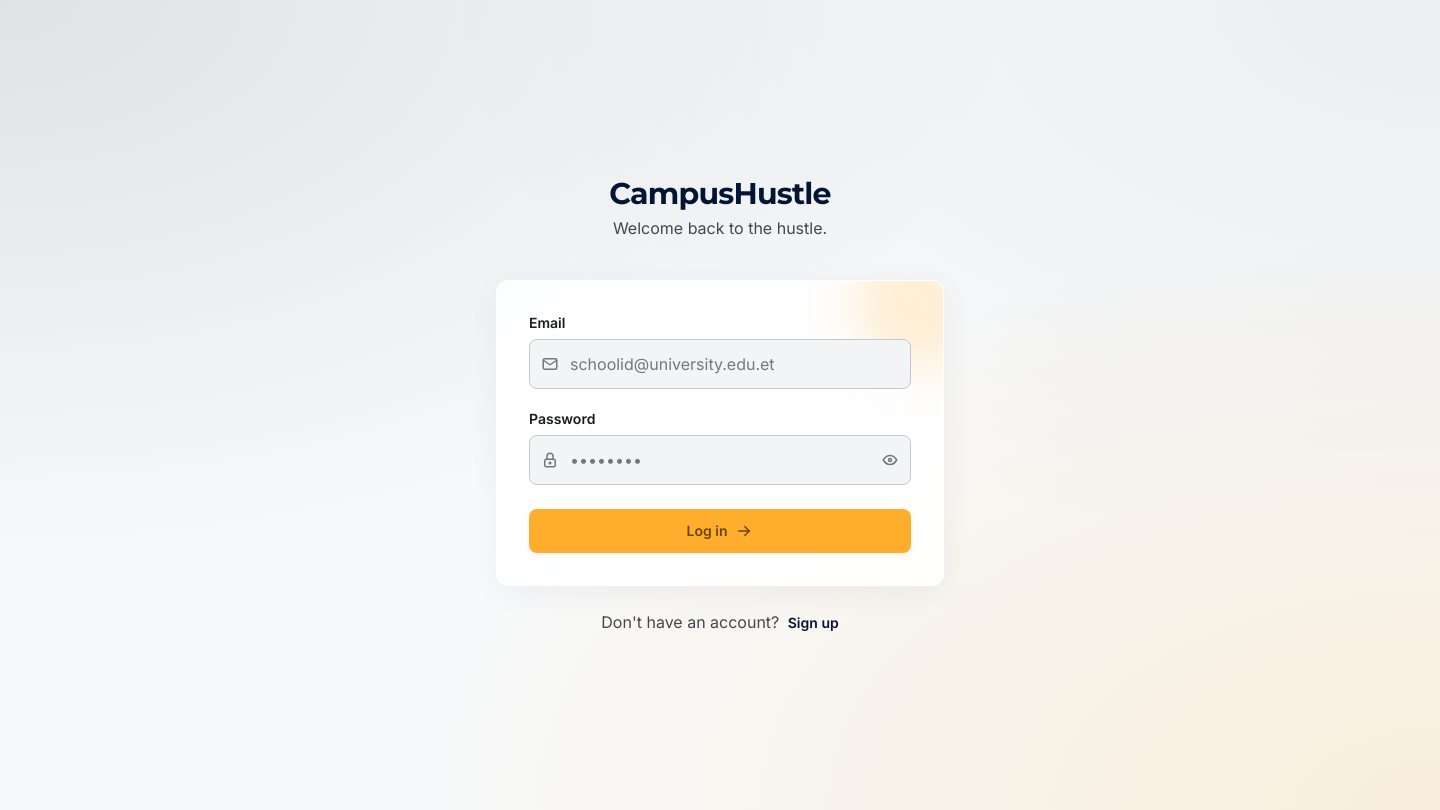
Test case: LoginForm › shows a loading state then a success toast for valid credentials
The image size is (1440, 810).
Type "student@campus.edu.et" into the field labelled "Email". click: (720, 364)
box: x1=529 y1=339 x2=911 y2=389
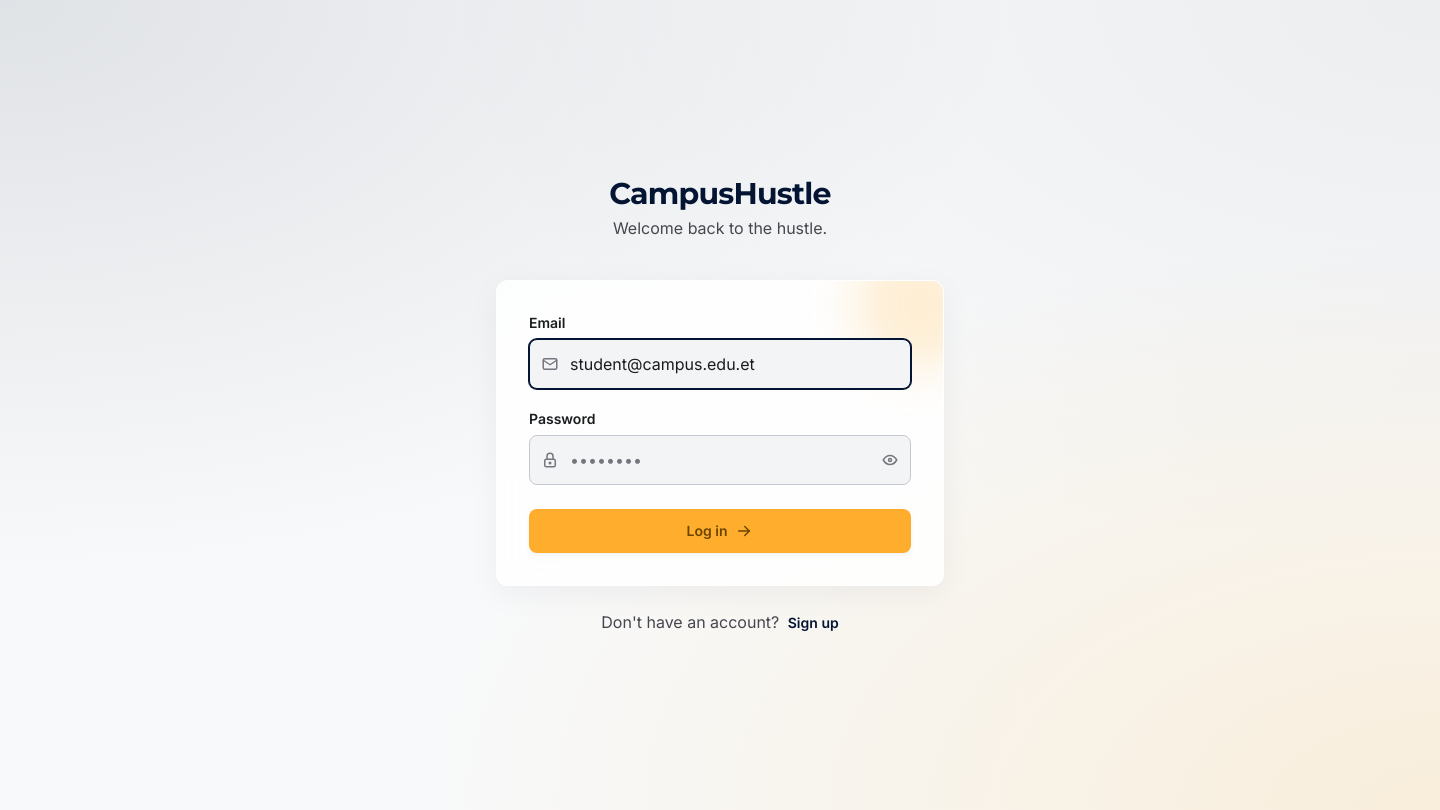
Type "password123" into the password field labelled "Password". click: (720, 460)
box: x1=529 y1=435 x2=911 y2=485
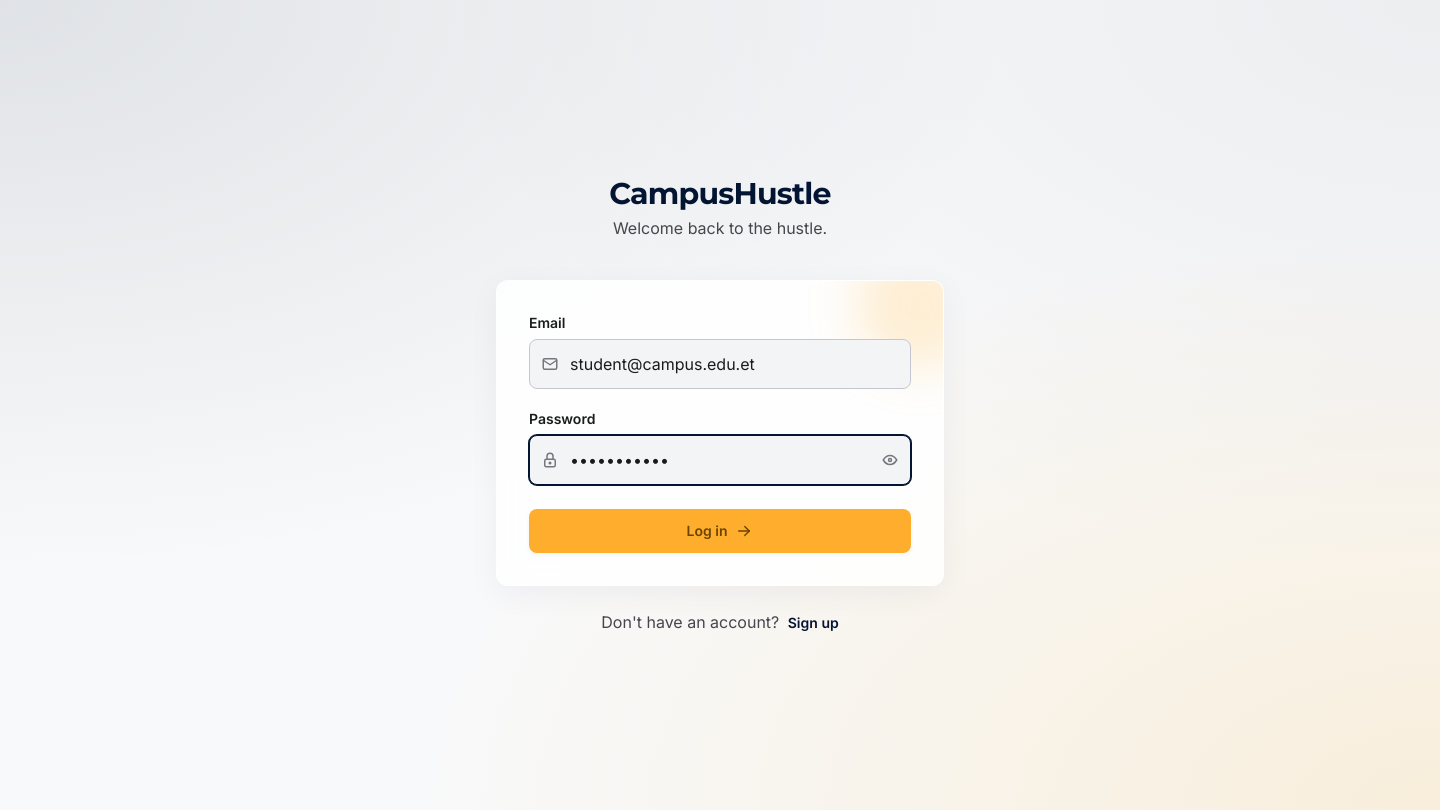
Click the button "Log in". click: (720, 531)
box: x1=529 y1=509 x2=911 y2=553
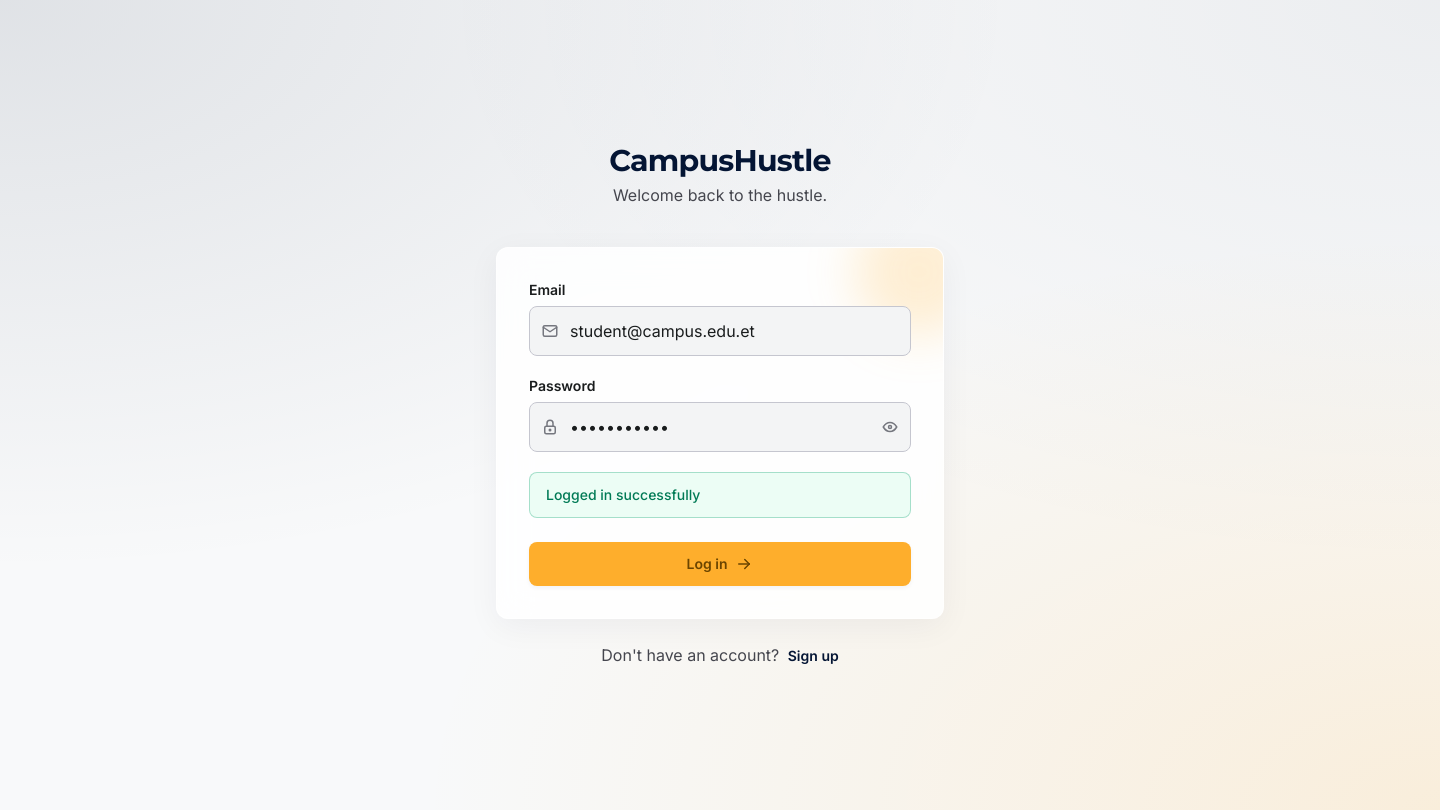
Check: the message with test id "toast-success" reads "Logged in successfully", box x1=546 y1=486 x2=700 y2=503
